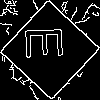E: (25, 25, 72, 60)
